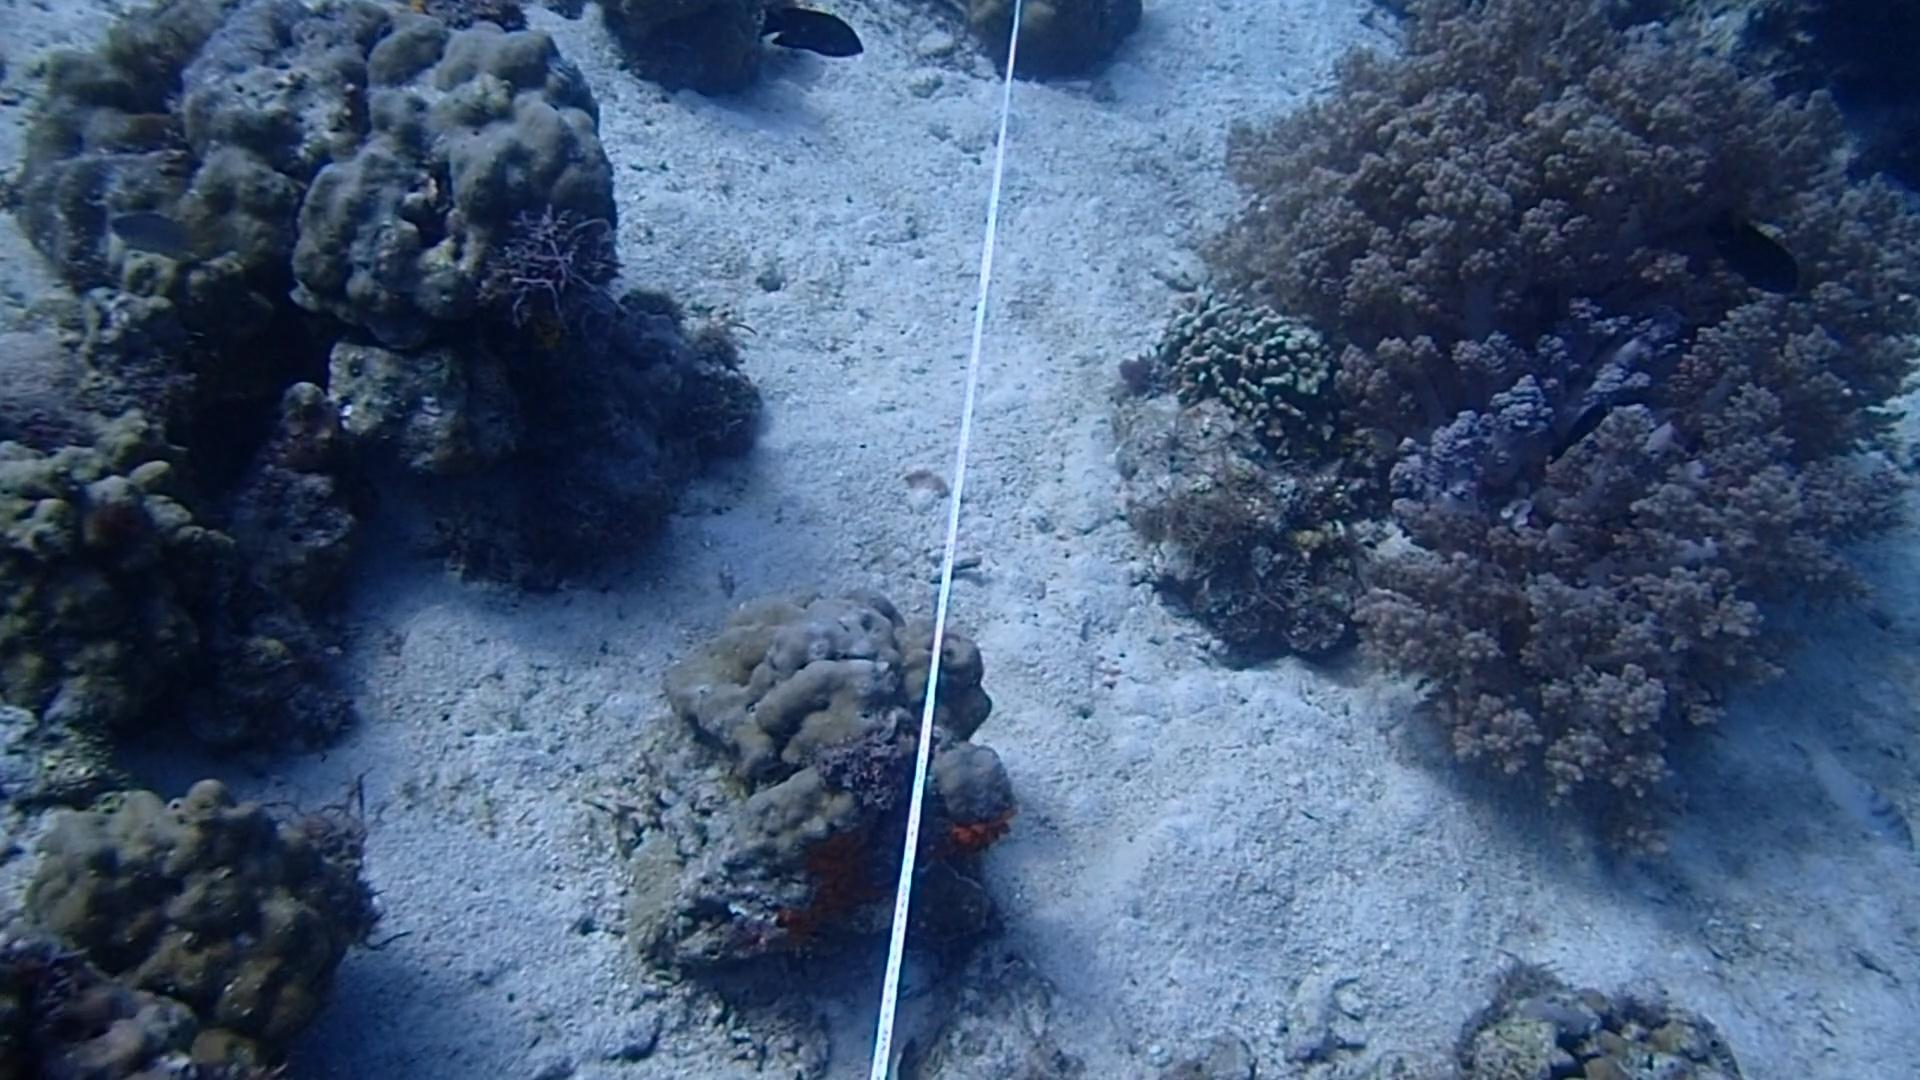Dark Fish: (1683, 186, 1801, 307), (752, 0, 873, 71), (1540, 397, 1609, 460)
Light Fish w Back Stripes: (1797, 731, 1920, 868)
